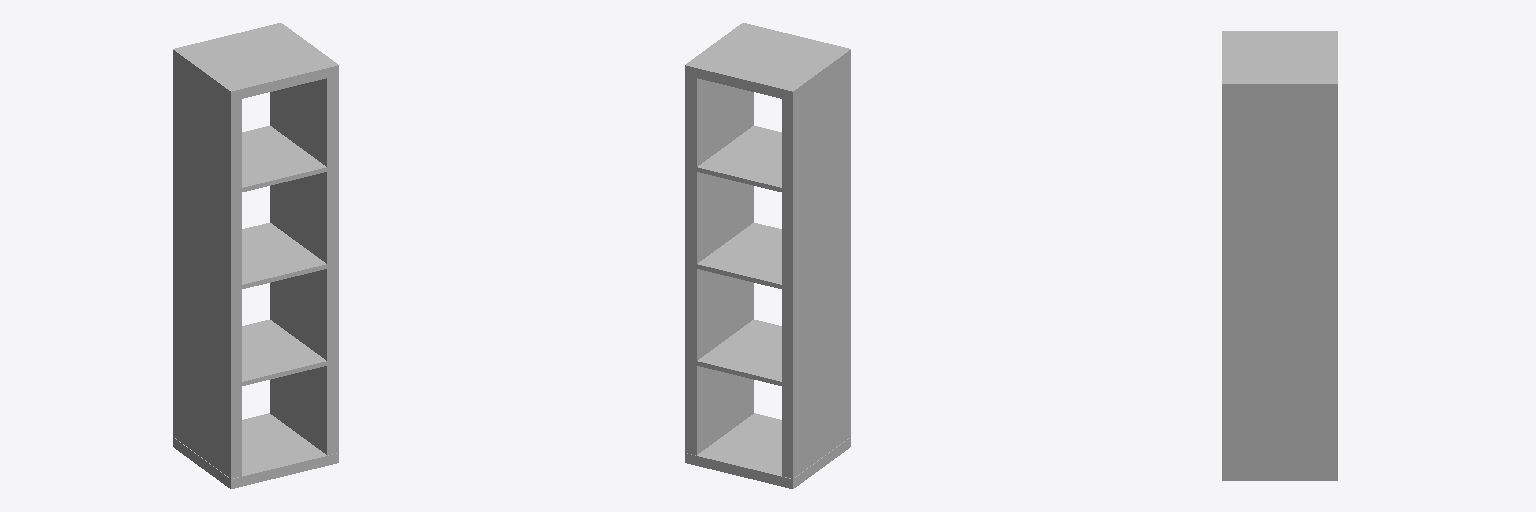
The model's file is kallax_1_4.obj.
3 renders of one model, left to right at view 1: azimuth 30°, elevation 25°; view 2: azimuth 150°, elevation 25°; view 3: azimuth 270°, elevation 25°, orthographic.
Visible parts, largest first — view 1: Cube.001, Cube.002, Cube.003, Cube, Cube.005_Cube.008, Cube.004_Cube.007, Cube.006; view 2: Cube.001, Cube.002, Cube.003, Cube, Cube.005_Cube.008, Cube.004_Cube.007, Cube.006; view 3: Cube.002, Cube.003, Cube.
Boxes of the visible parts, x1=… form: Cube.001: x1=173, y1=60, x2=241, y2=478; Cube.002: x1=270, y1=75, x2=338, y2=455; Cube.003: x1=173, y1=23, x2=338, y2=101; Cube: x1=173, y1=413, x2=338, y2=488; Cube.005_Cube.008: x1=242, y1=320, x2=326, y2=385; Cube.004_Cube.007: x1=242, y1=223, x2=326, y2=288; Cube.006: x1=242, y1=126, x2=326, y2=191; Cube.001: x1=782, y1=60, x2=850, y2=478; Cube.002: x1=685, y1=75, x2=753, y2=455; Cube.003: x1=685, y1=23, x2=850, y2=101; Cube: x1=685, y1=413, x2=850, y2=488; Cube.005_Cube.008: x1=697, y1=320, x2=781, y2=385; Cube.004_Cube.007: x1=697, y1=223, x2=781, y2=288; Cube.006: x1=697, y1=126, x2=781, y2=191; Cube.002: x1=1222, y1=94, x2=1337, y2=470; Cube.003: x1=1222, y1=31, x2=1337, y2=93; Cube: x1=1222, y1=471, x2=1337, y2=480.
Size of the model in its own units: 0.42 by 1.47 by 0.39.